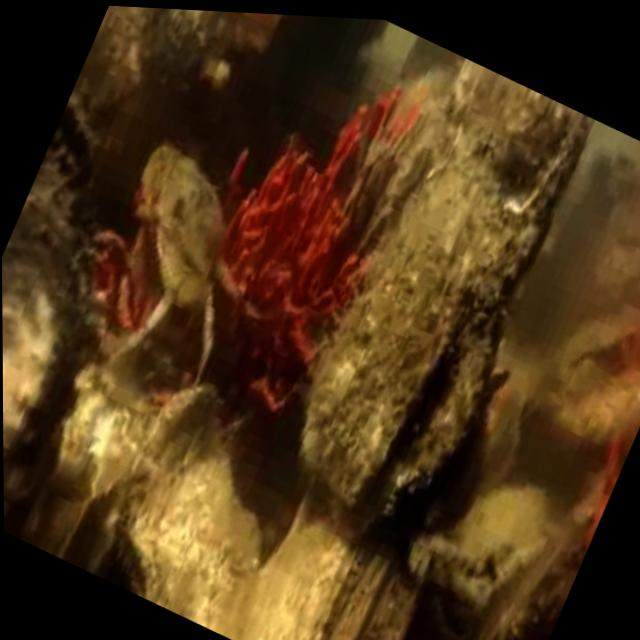Oyster-Indeterminate: (2, 157, 84, 535)
Oyster-Open: (310, 59, 589, 525), (45, 90, 99, 188)
